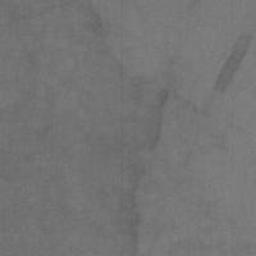Water spot: (0, 0, 172, 256), (211, 32, 250, 95)
